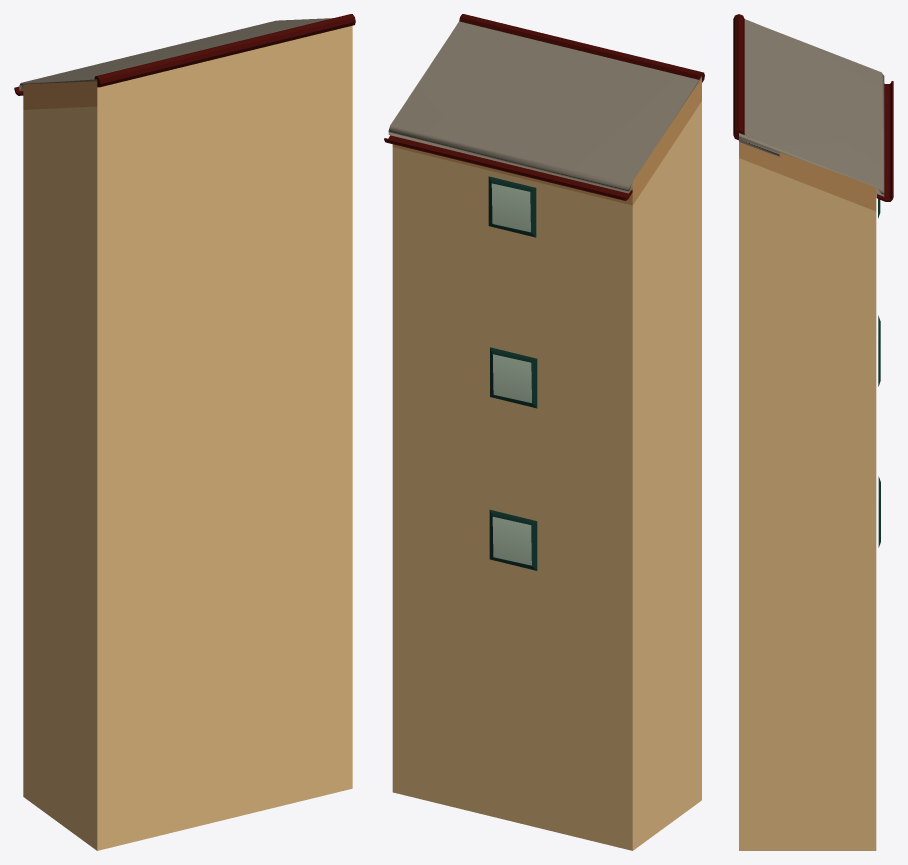
The model's file is house_02.fbx.
The picture shows the model from 3 angles, left to right: view 1: azimuth 30°, elevation 25°; view 2: azimuth 150°, elevation 25°; view 3: azimuth 270°, elevation 25°; orthographic projection. The views are drawn at different scales.
Parts seen in each view (by area): view 1: house_02; view 2: house_02; view 3: house_02.
Part boxes in pixels (<box>): house_02: <box>14,14,355,850</box>; house_02: <box>384,14,704,850</box>; house_02: <box>733,14,893,850</box>.
Size of the model in its own units: 20 by 57.94 by 11.68.
